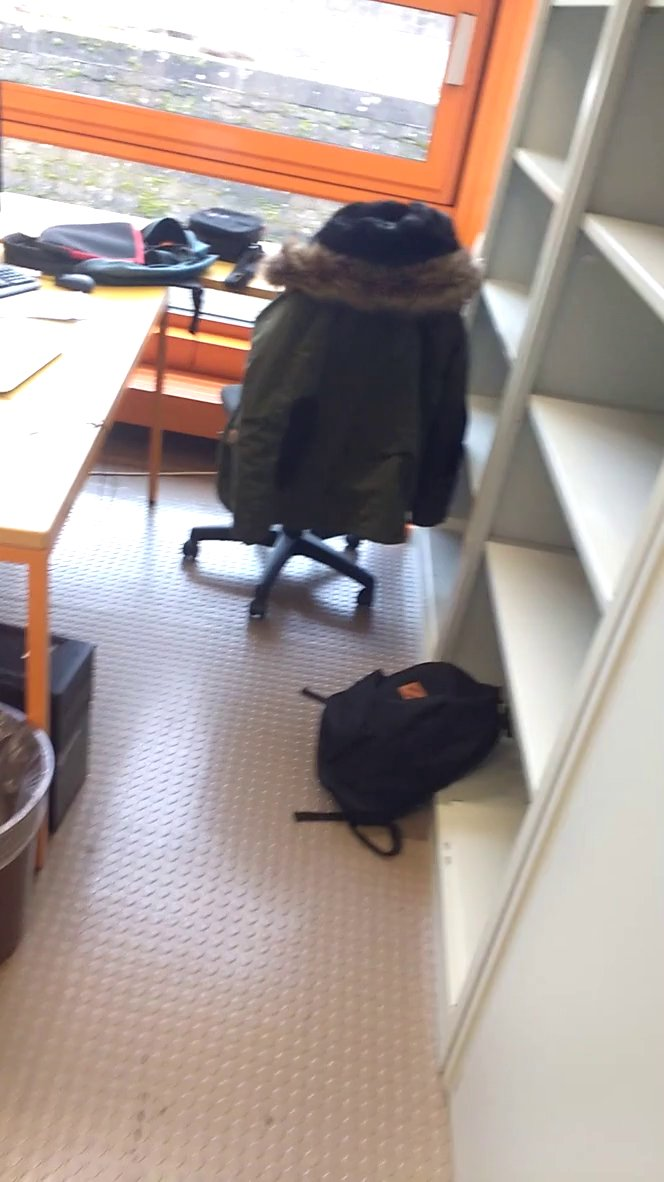bag: (297, 650, 524, 869)
